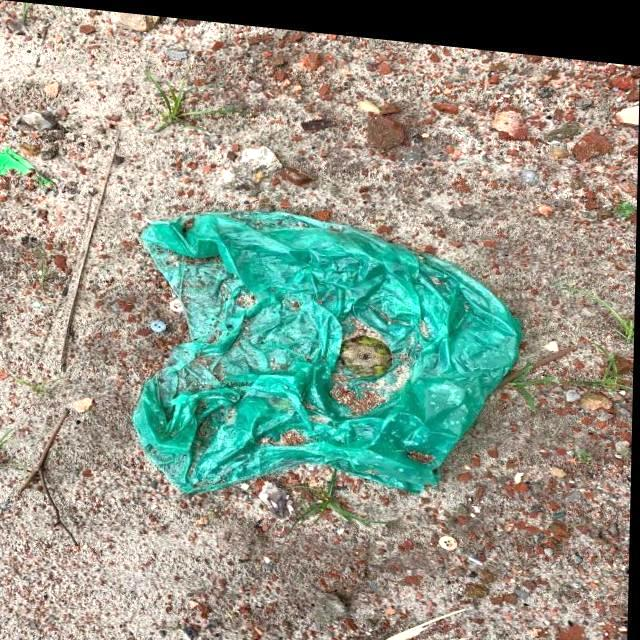polythene: (122, 197, 527, 520)
